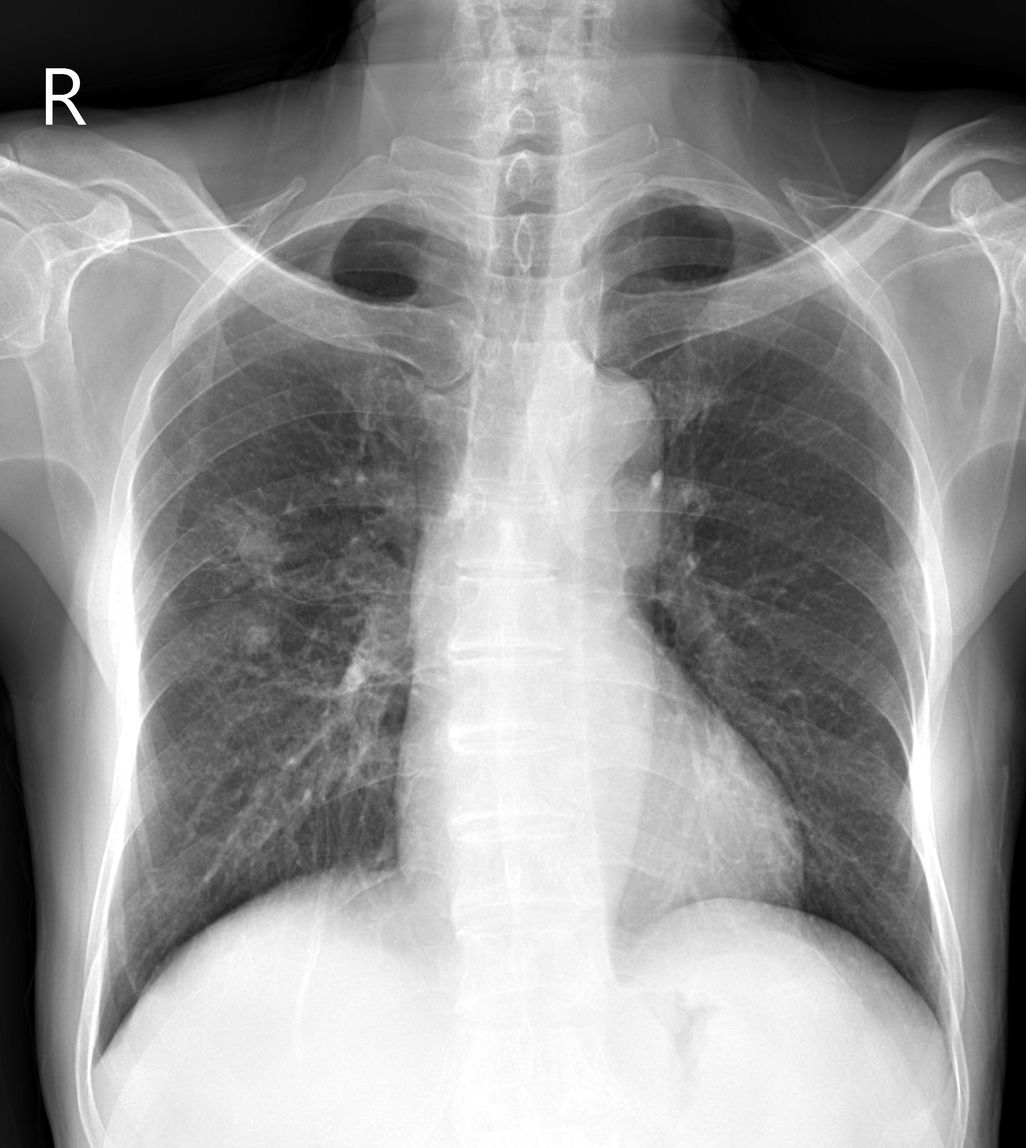Aortic enlargement: (528, 365, 663, 530)
Pleural thickening: (648, 189, 766, 228)
Pulmonary fibrosis: (154, 432, 370, 867), (163, 453, 291, 580)
